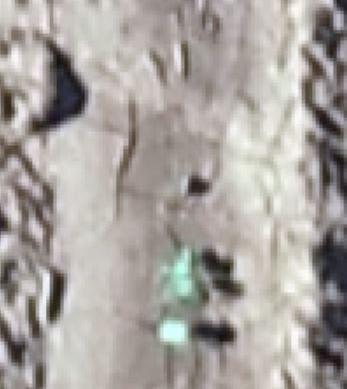cotton: (171, 255, 199, 299), (158, 320, 189, 343)
